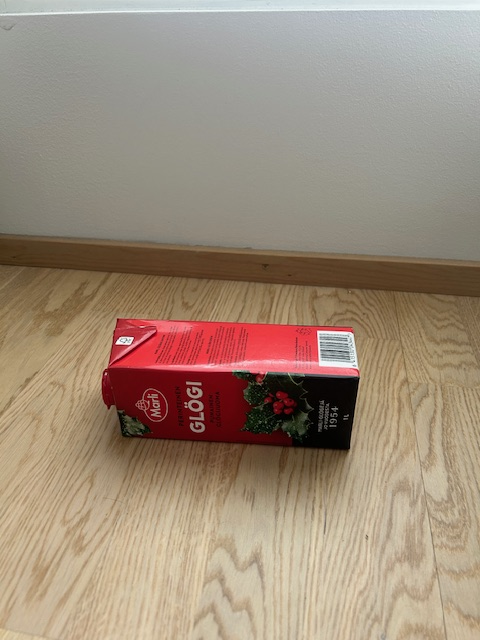Dryckeskartong: (101, 318, 361, 451)
